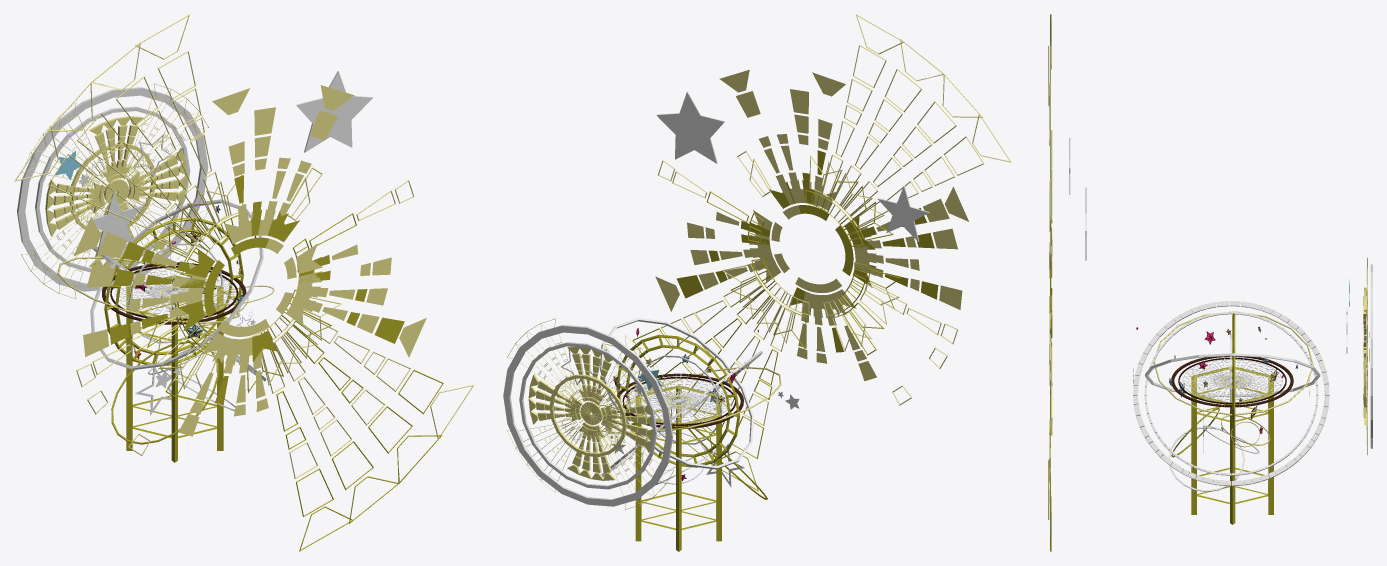
The model's file is 天球義ステージ.glb.
3 renders of one model, left to right at view 1: azimuth 30°, elevation 25°; view 2: azimuth 150°, elevation 25°; view 3: azimuth 270°, elevation 25°, orthographic. The views are drawn at different scales.
Parts seen in each view (by area): view 1: 円錐.000, Torus.001; view 2: 円錐.000; view 3: 円錐.000, Torus.001.
Part boxes in pixels (<box>): 円錐.000: <box>14,14,474,551</box>; Torus.001: <box>57,256,240,323</box>; 円錐.000: <box>503,14,1011,551</box>; 円錐.000: <box>1048,14,1372,551</box>; Torus.001: <box>1153,311,1313,415</box>.
Size of the model in its own units: 154 by 181 by 114.
